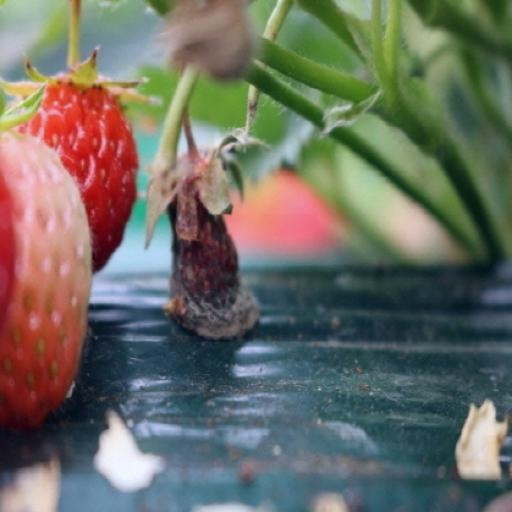Gray Mold: (244, 126, 367, 343)
